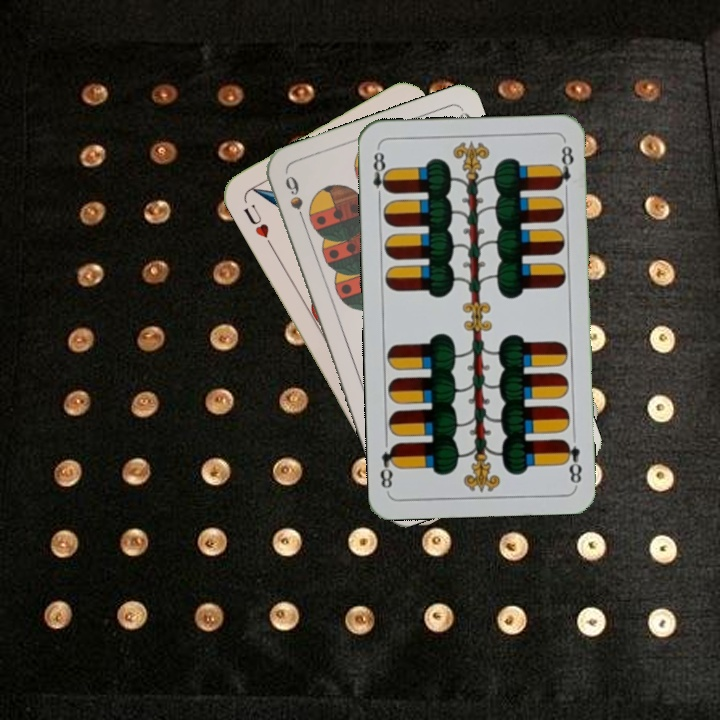E8: (369, 144, 392, 204), (559, 435, 584, 486)
HU: (239, 200, 276, 251)
S9: (281, 171, 309, 228)
